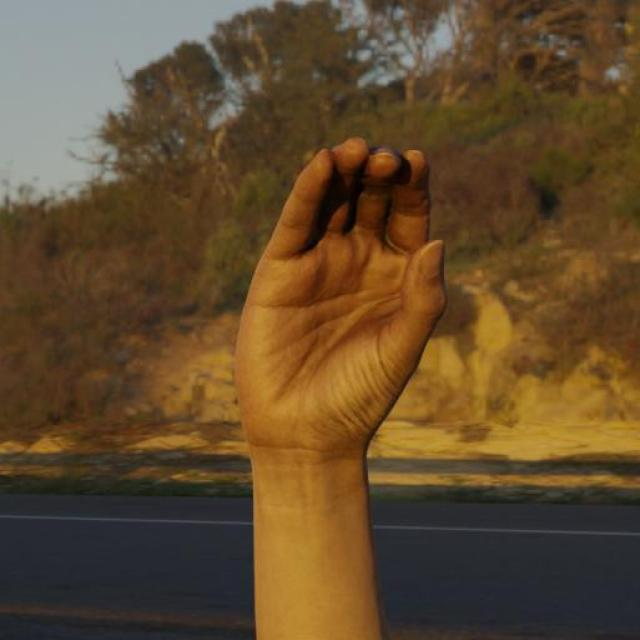C: (195, 116, 484, 487)
